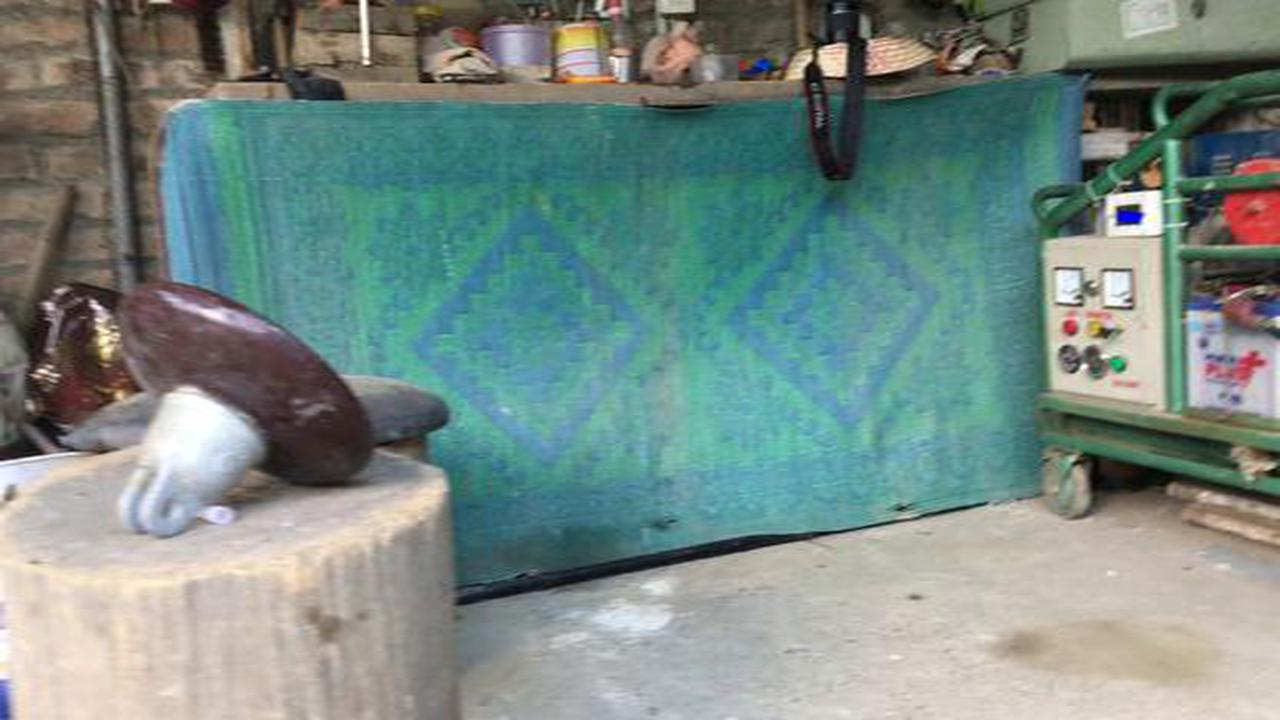insulator_disc: (108, 272, 383, 535)
